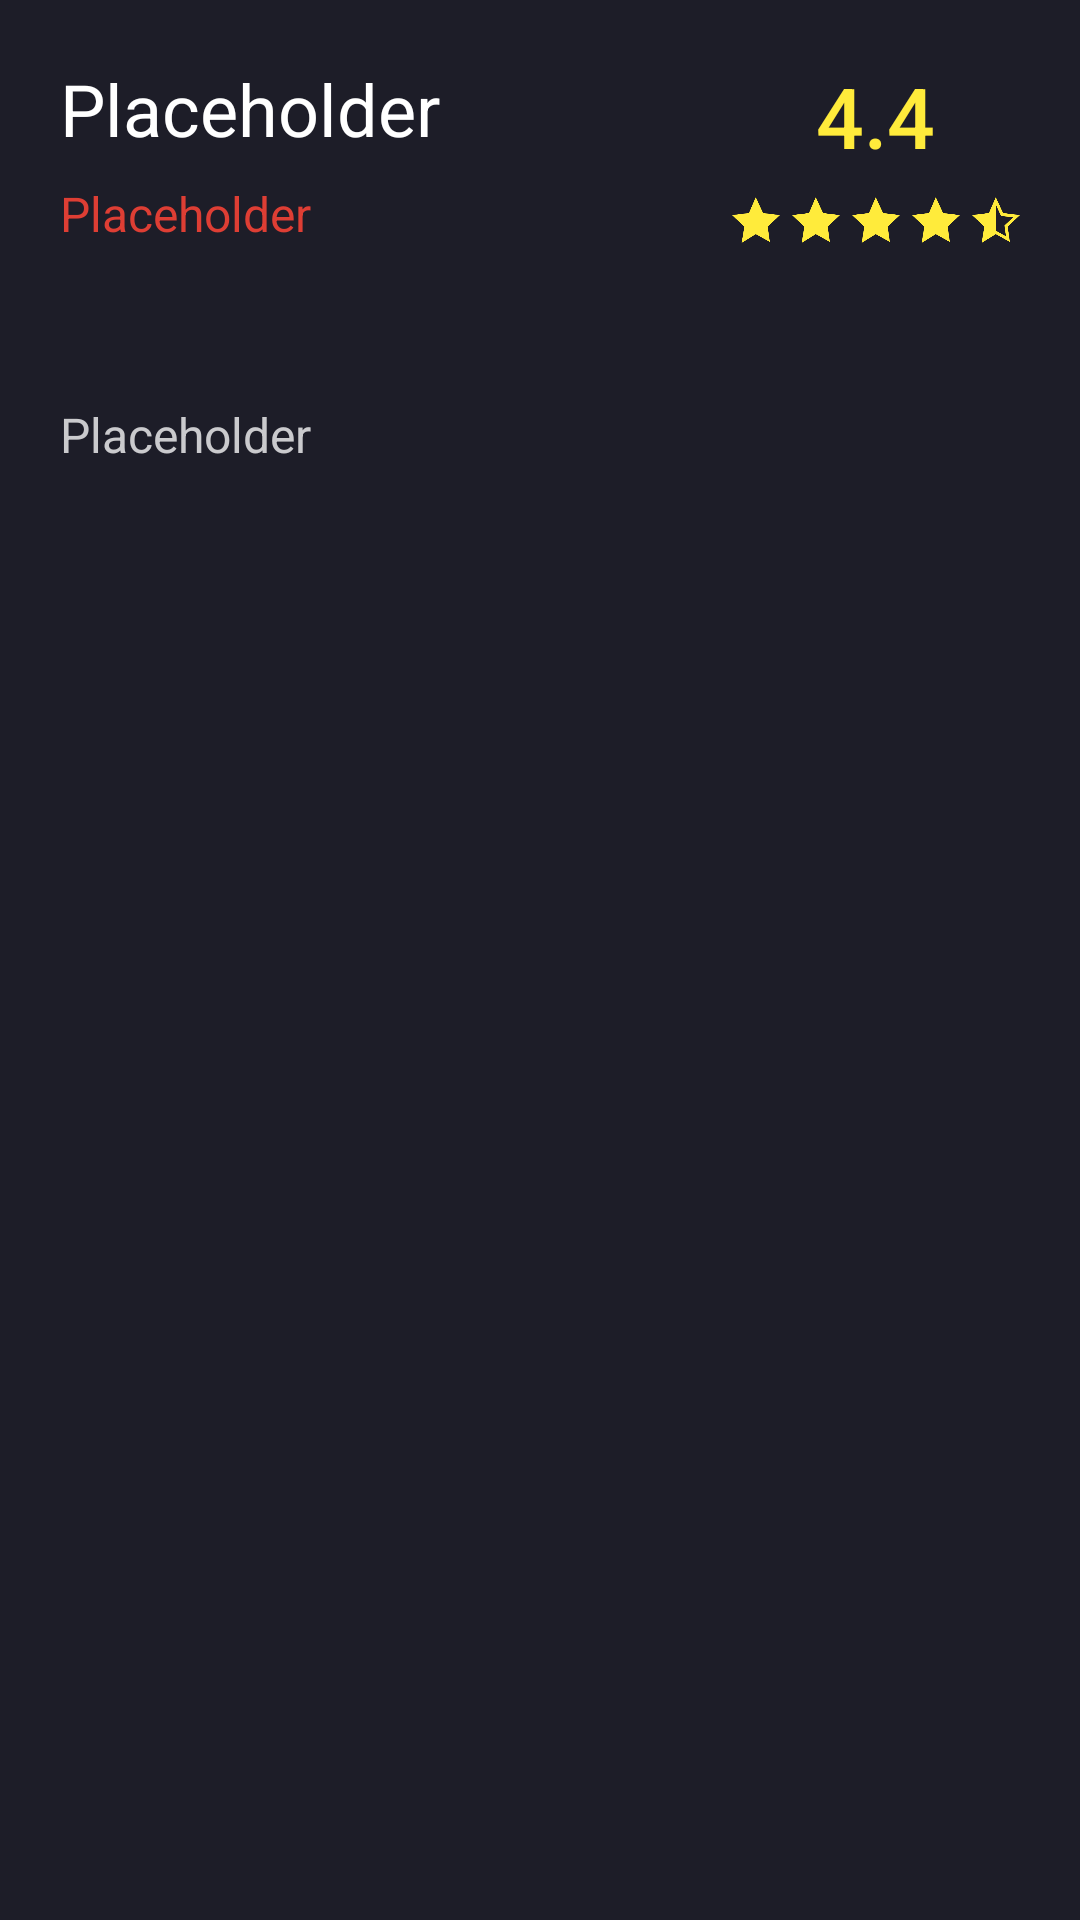

Icon bounding boxes for this 1080*1920 phone screenshot, format detection(x1, y1, x2, y2):
star: detection(732, 197, 780, 243), detection(792, 197, 840, 243), detection(852, 197, 900, 243), detection(912, 197, 960, 243)
